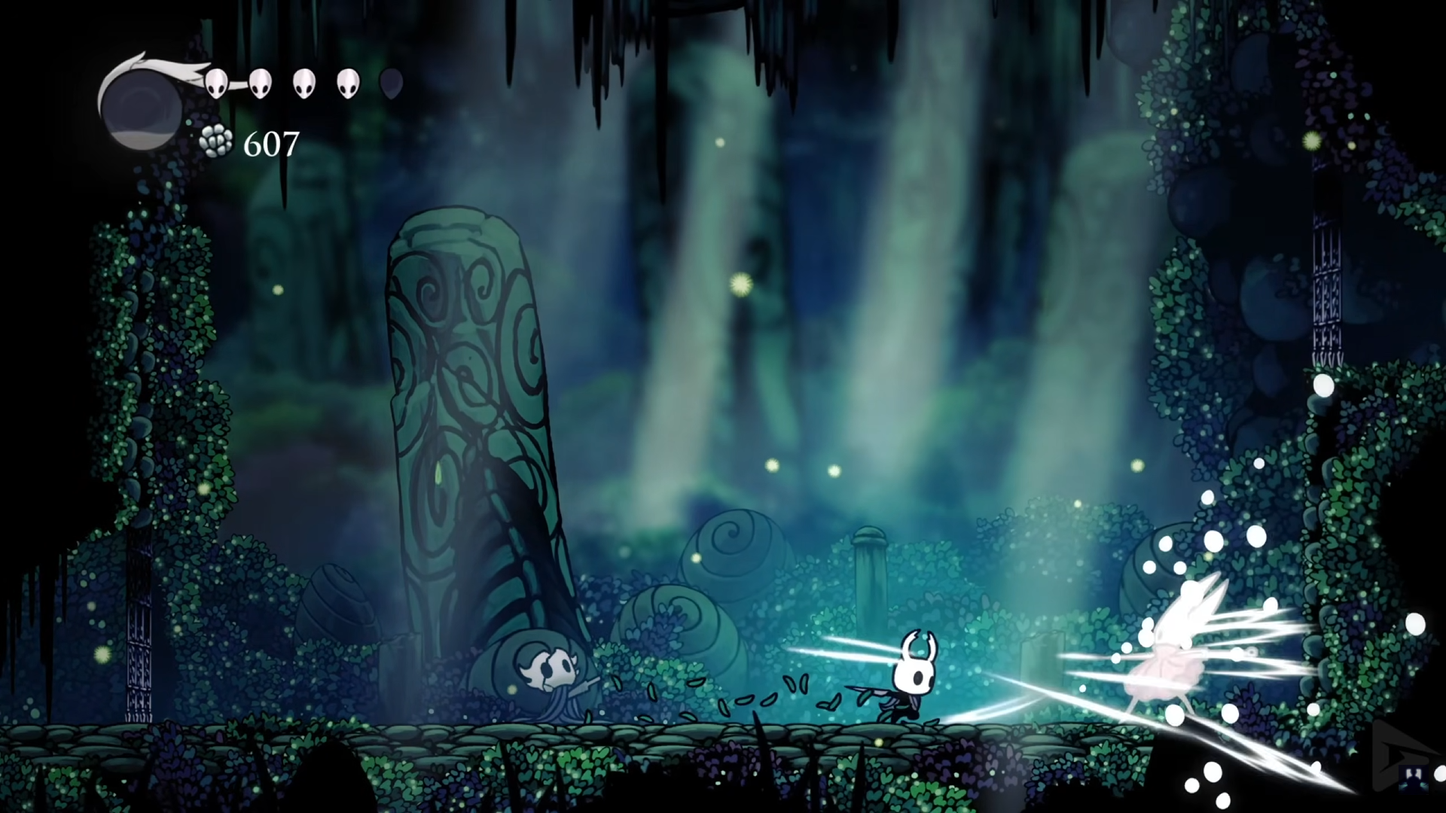HK: (879, 628, 943, 726)
